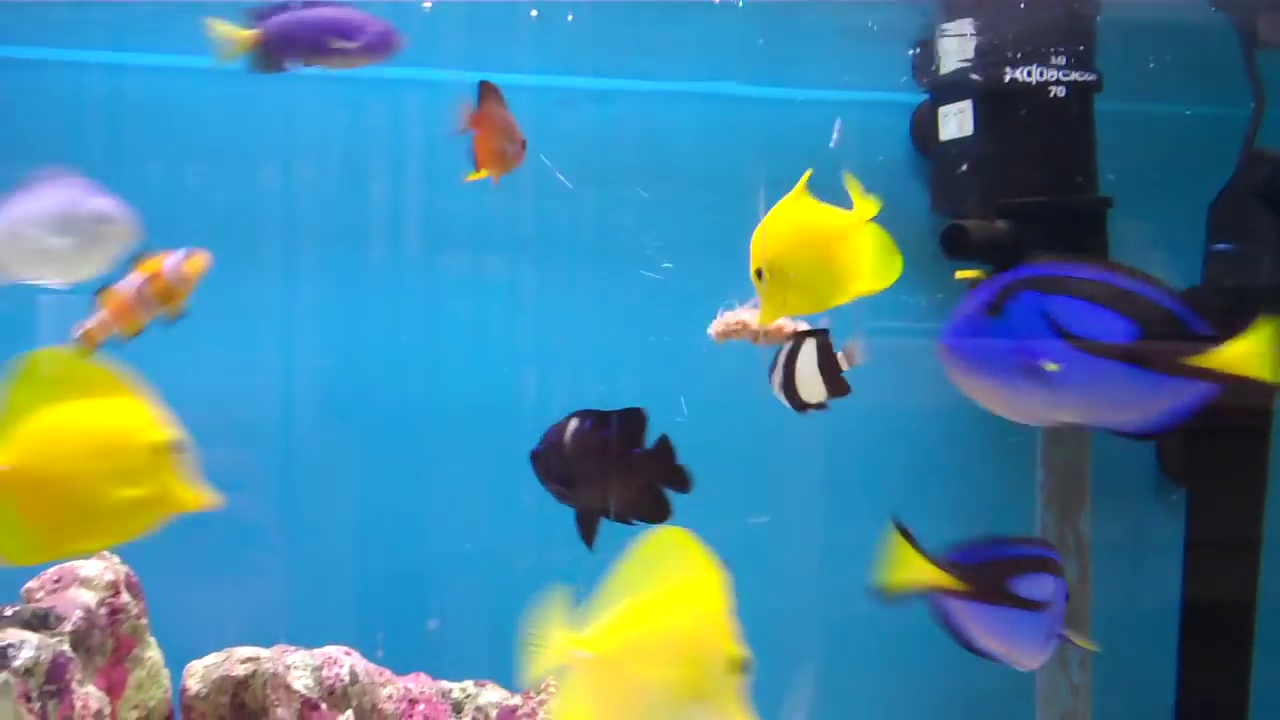blue tang surgeonfish: (933, 232, 1280, 440), (853, 495, 1089, 672)
saddle butterfly fish: (0, 343, 231, 575), (520, 509, 770, 720), (730, 155, 912, 325)
